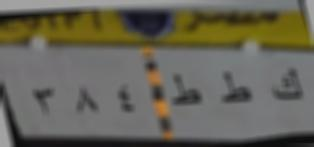3: (33, 82, 58, 118)
4: (117, 78, 139, 113)
8: (73, 85, 102, 120)
Taa: (170, 71, 204, 110), (219, 72, 253, 110)
kaaf: (267, 60, 305, 107)
